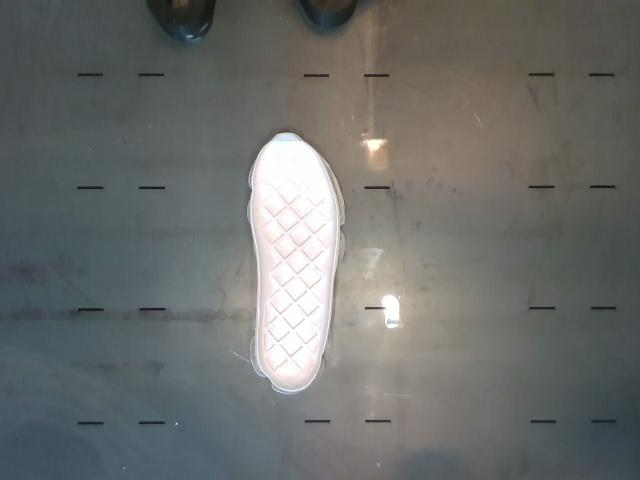shoes: (251, 134, 337, 391)
